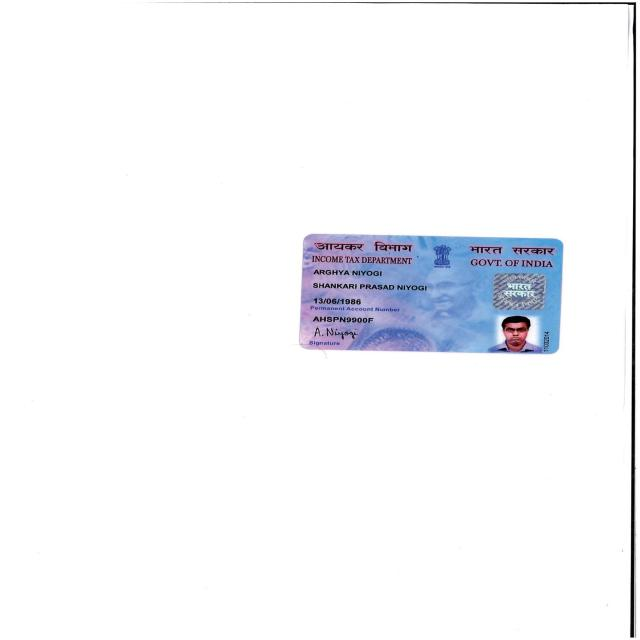pan_card: (296, 232, 560, 353)
